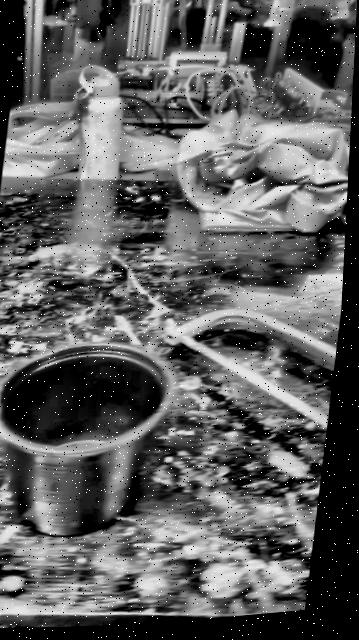pot: (0, 327, 176, 547)
